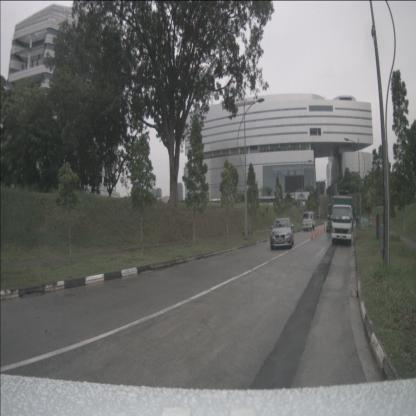movable_object-trafficcone: (310, 228, 314, 240), (314, 226, 318, 237), (320, 224, 323, 234), (317, 226, 320, 235), (323, 224, 326, 232)
vehicle-car: (270, 218, 294, 250), (302, 211, 315, 232)
vehicle-truck: (331, 194, 353, 245)
